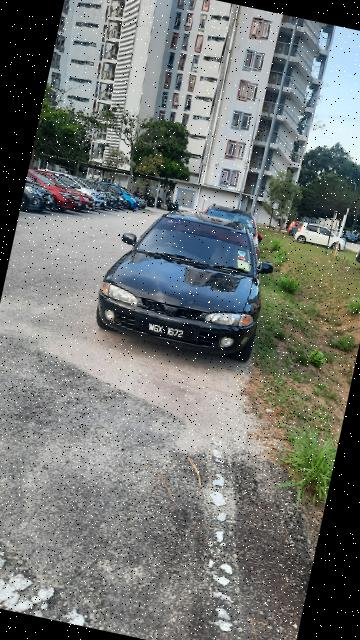License_Plate: (135, 316, 197, 345)
car: (90, 196, 283, 369)
